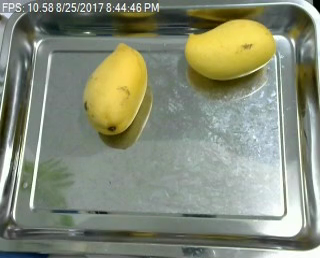Mango: (78, 40, 151, 141), (183, 15, 276, 85)
